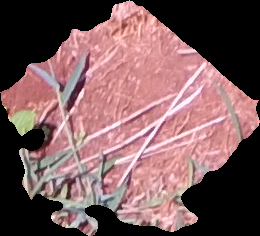soil: (2, 2, 258, 236)
